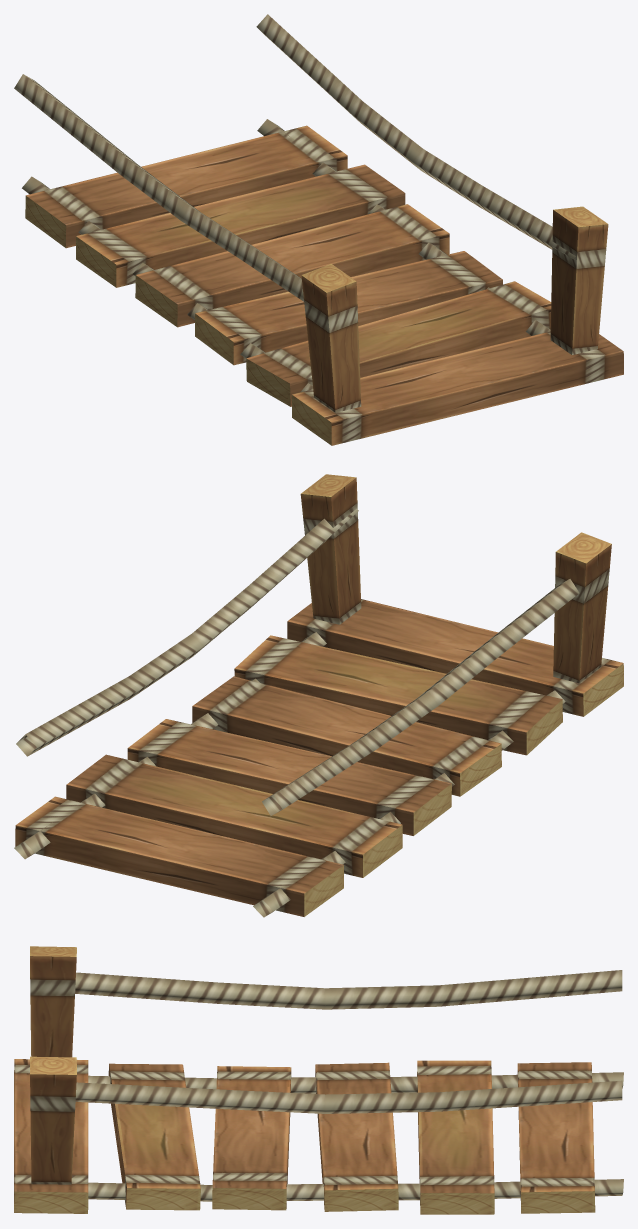
Rendered from bridge_01_tile_03.fbx.
3 renders of one model, top to bottom at view 1: azimuth 30°, elevation 25°; view 2: azimuth 150°, elevation 25°; view 3: azimuth 270°, elevation 25°, orthographic. The views are drawn at different scales.
Parts seen in each view (by area): view 1: bridge_01_tile_03; view 2: bridge_01_tile_03; view 3: bridge_01_tile_03.
Boxes of the visible parts, x1,y1,x2,y2 form: bridge_01_tile_03: [14, 14, 623, 445]; bridge_01_tile_03: [14, 474, 623, 917]; bridge_01_tile_03: [14, 946, 623, 1214].
Size of the model in its own units: 1.53 by 0.7717 by 2.98.
